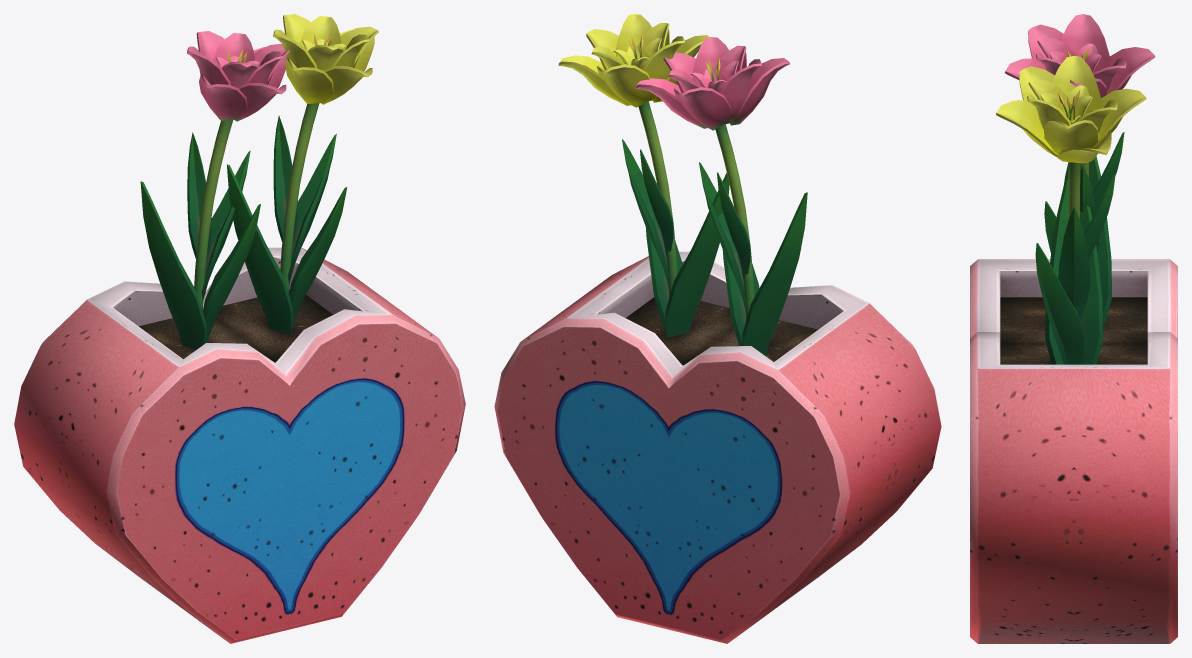
File: huapen_FBX.FBX
The picture shows the model from 3 angles, left to right: view 1: azimuth 30°, elevation 25°; view 2: azimuth 150°, elevation 25°; view 3: azimuth 270°, elevation 25°; orthographic projection. The views are drawn at different scales.
Parts seen in each view (by area): view 1: Plane016, Cylinder002, Cylinder003; view 2: Plane016, Cylinder002, Cylinder003; view 3: Plane016, Cylinder003, Cylinder002.
Boxes of the visible parts, x1,y1,x2,y2 form: Plane016: (14, 247, 465, 643); Cylinder002: (140, 31, 289, 349); Cylinder003: (227, 14, 378, 362); Plane016: (494, 251, 941, 643); Cylinder002: (635, 37, 807, 355); Cylinder003: (558, 14, 729, 365); Plane016: (970, 259, 1177, 643); Cylinder003: (996, 55, 1146, 364); Cylinder002: (1005, 14, 1155, 323).
Bounding box in the file's own units: 92.35 × 136 × 44.36.
